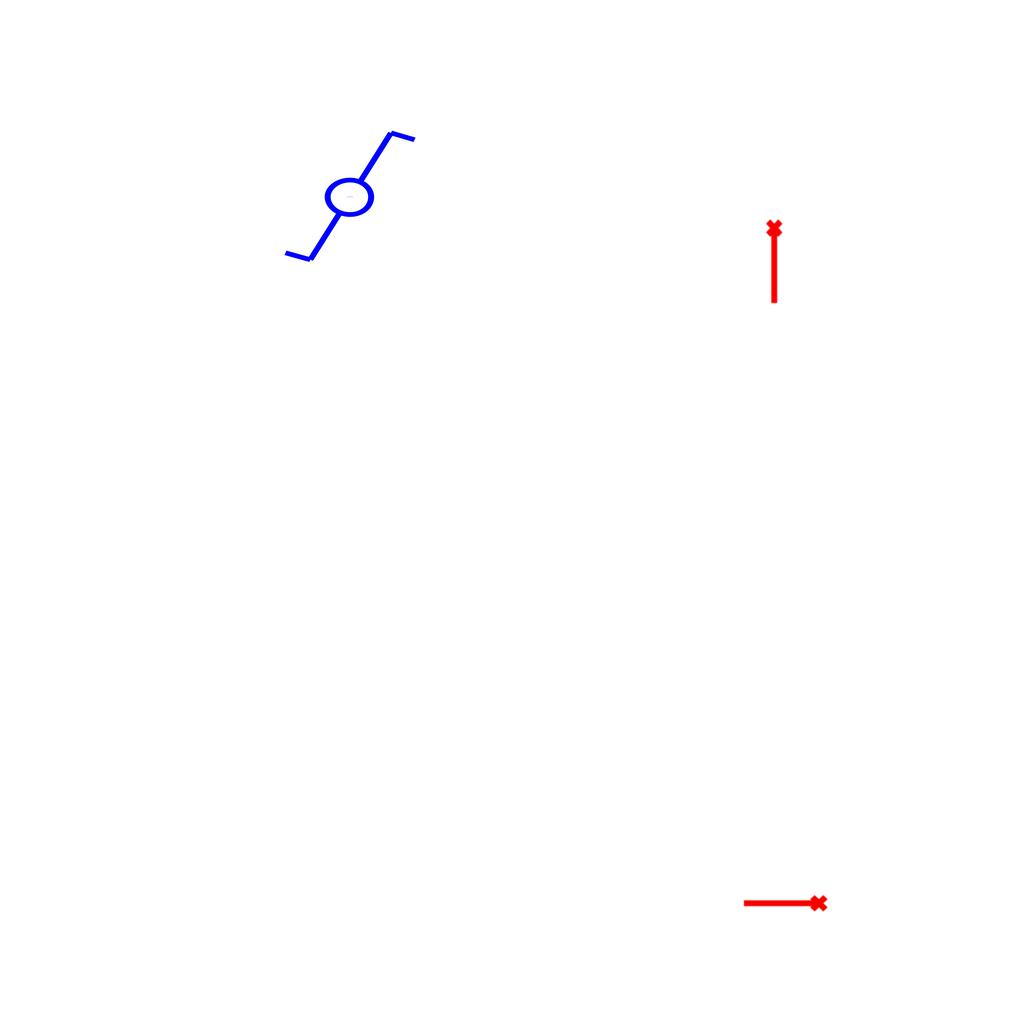ASR_Ansaugoeffnung: (741, 893, 829, 916), (764, 218, 787, 306)
Wechselschalter: (263, 123, 420, 267)
